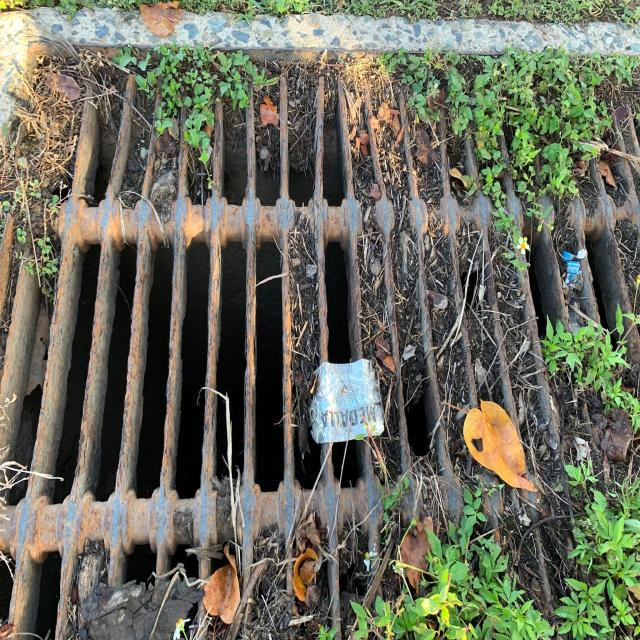litter: (309, 356, 385, 442)
